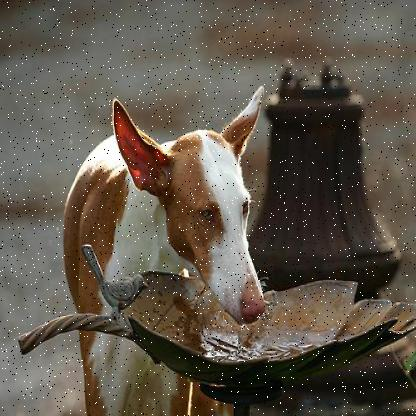dog: (63, 81, 279, 344)
